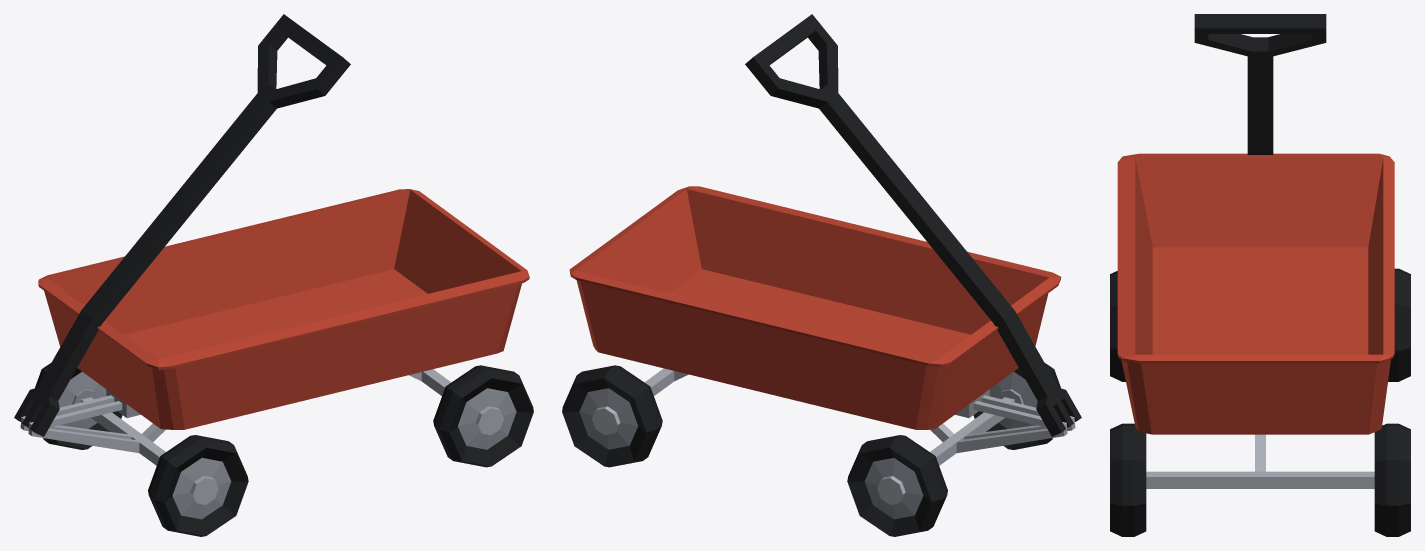
File: SM_Prop_Cart_01.fbx
3 renders of one model, left to right at view 1: azimuth 30°, elevation 25°; view 2: azimuth 150°, elevation 25°; view 3: azimuth 270°, elevation 25°, orthographic. The views are drawn at different scales.
Parts seen in each view (by area): view 1: SM_Prop_Cart_01; view 2: SM_Prop_Cart_01; view 3: SM_Prop_Cart_01.
Boxes of the visible parts, box(x1,y1,x2,y2) form: SM_Prop_Cart_01: box(14, 14, 533, 536); SM_Prop_Cart_01: box(562, 14, 1081, 536); SM_Prop_Cart_01: box(1110, 14, 1410, 536).
Bounding box in the file's own units: 108 × 95.17 × 56.31.
